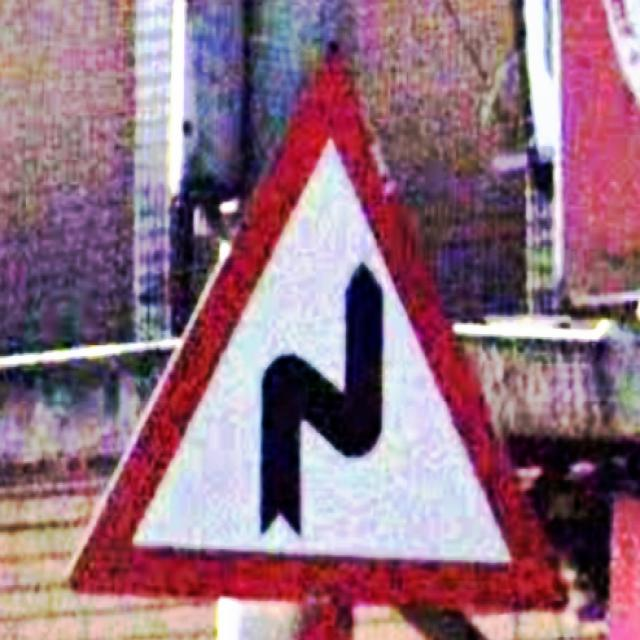doublebendright: (67, 42, 566, 612)
